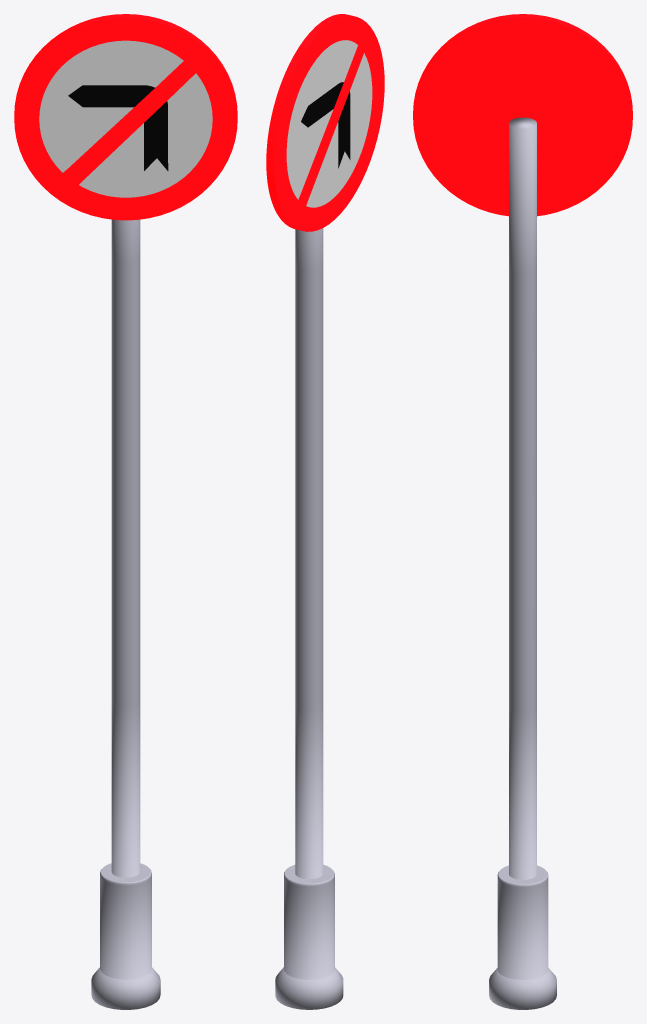
File: SolaDonulmezTabelasi.dae
3 renders of one model, left to right at view 1: azimuth 90°, elevation 25°; view 2: azimuth 150°, elevation 25°; view 3: azimuth 270°, elevation 25°, orthographic.
Parts seen in each view (by area): view 1: Base_circle.001, Base_body.001; view 2: Base_body.001, Base_circle.001; view 3: Base_circle.001, Base_body.001.
Part boxes in pixels (left/top/right/bottom): Base_circle.001: left=14, top=14, right=237, bottom=220; Base_body.001: left=91, top=219, right=160, bottom=1009; Base_body.001: left=275, top=228, right=343, bottom=1009; Base_circle.001: left=266, top=14, right=384, bottom=231; Base_circle.001: left=413, top=14, right=632, bottom=216; Base_body.001: left=489, top=117, right=556, bottom=1009.
Bounding box in the file's own units: 0.1839 × 0.6 × 2.93.
